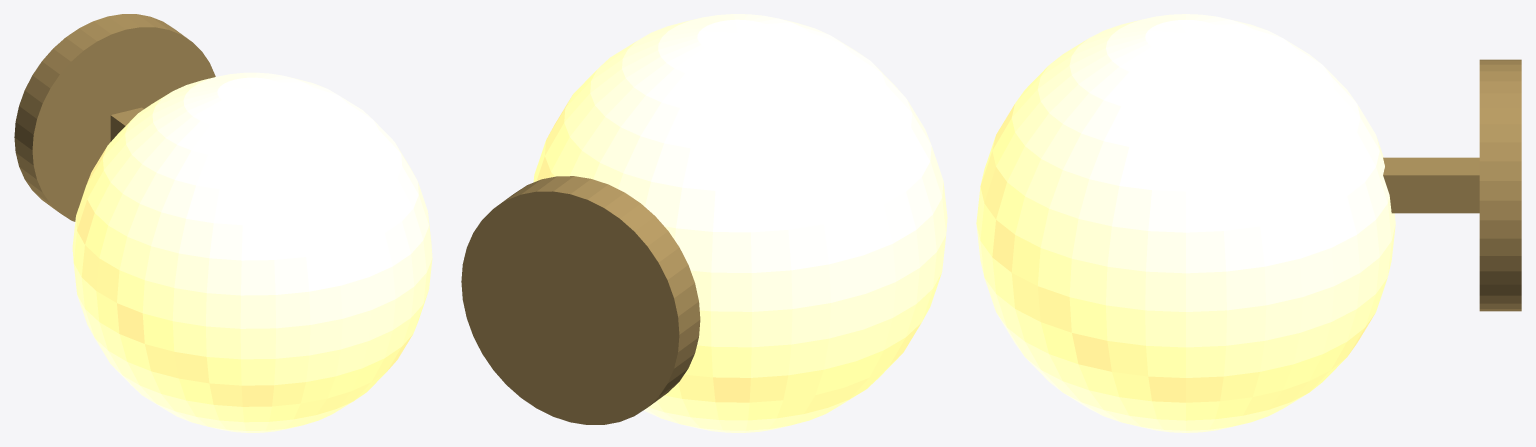
Rendered from 06_wall_globe.glb.
3 views of the same model, side by side, from view 1: azimuth 30°, elevation 25°; view 2: azimuth 150°, elevation 25°; view 3: azimuth 270°, elevation 25° (orthographic). The views are drawn at different scales.
Bounding box in the file's own units: 0.2 × 0.2 × 0.26.
